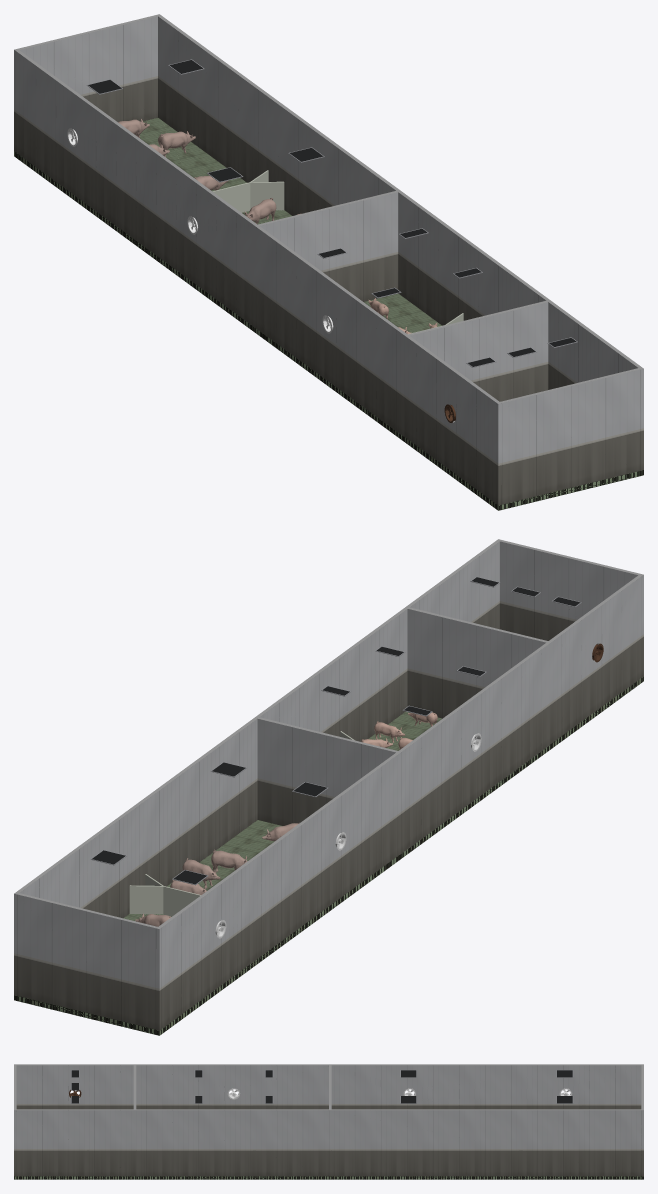
File: weaner_barn.glb
3 renders of one model, top to bottom at view 1: azimuth 30°, elevation 25°; view 2: azimuth 150°, elevation 25°; view 3: azimuth 270°, elevation 25°, orthographic. The views are drawn at different scales.
Visible parts, largest first — view 1: Cube.023, Cube.024, Cube.020, PigRoom_Wall_S, PigRoom_Wall_W_Fan, Cube.019, Cube.025, Cube.018, PigRoom_Wall_N, PigRoom_Wall_E, Cube.022, Cube.021 (+3 smaller); view 2: Cube.023, Cube.024, Cube.020, Cube.025, Cube.019, PigRoom_Wall_W_Fan, PigRoom_Wall_N, Cube.018, PigRoom_Wall_S, PigRoom_Wall_E, Cube.022, Cube.021 (+2 smaller); view 3: Cube.024, Cube.023, Cube.019, Cube.020, PigRoom_Wall_E, PigRoom_Wall_W_Fan, Cube.022, Cube.021, PigRoom_FloorSlab, Cube.025.
Part boxes in pixels (x1,y1,x2,y2): Cube.023: (14, 49, 256, 326); Cube.024: (157, 14, 399, 215); Cube.020: (254, 224, 407, 436); PigRoom_Wall_S: (500, 368, 640, 504); PigRoom_Wall_W_Fan: (404, 334, 501, 505); Cube.019: (396, 190, 549, 325); Cube.025: (14, 14, 161, 150); Cube.018: (258, 191, 398, 301); PigRoom_Wall_N: (408, 300, 548, 420); PigRoom_Wall_E: (547, 300, 643, 470); Cube.022: (14, 117, 291, 331); Cube.021: (254, 293, 441, 441); Cube.023: (156, 752, 399, 1030); Cube.024: (14, 718, 257, 995); Cube.020: (396, 642, 549, 854); Cube.025: (14, 893, 161, 1029); Cube.019: (254, 608, 407, 741); PigRoom_Wall_W_Fan: (547, 574, 643, 744); PigRoom_Wall_N: (407, 607, 547, 718); Cube.018: (257, 717, 397, 825); PigRoom_Wall_S: (500, 540, 639, 660); PigRoom_Wall_E: (405, 539, 501, 629); Cube.022: (14, 820, 399, 1035); Cube.021: (368, 711, 549, 859); Cube.024: (331, 1109, 643, 1176); Cube.023: (331, 1064, 643, 1109); Cube.019: (136, 1109, 331, 1176); Cube.020: (136, 1064, 331, 1109); PigRoom_Wall_E: (14, 1109, 136, 1176); PigRoom_Wall_W_Fan: (14, 1064, 136, 1109); Cube.022: (331, 1176, 643, 1179); Cube.021: (136, 1176, 331, 1179); PigRoom_FloorSlab: (14, 1176, 136, 1179); Cube.025: (641, 1064, 643, 1176).
Bounding box in the file's own units: 4.26 × 2.94 × 24.2.
11 materials, 3 textured.
